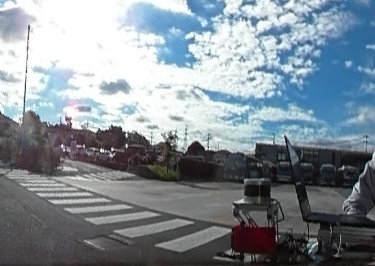person: (356, 109, 375, 262)
